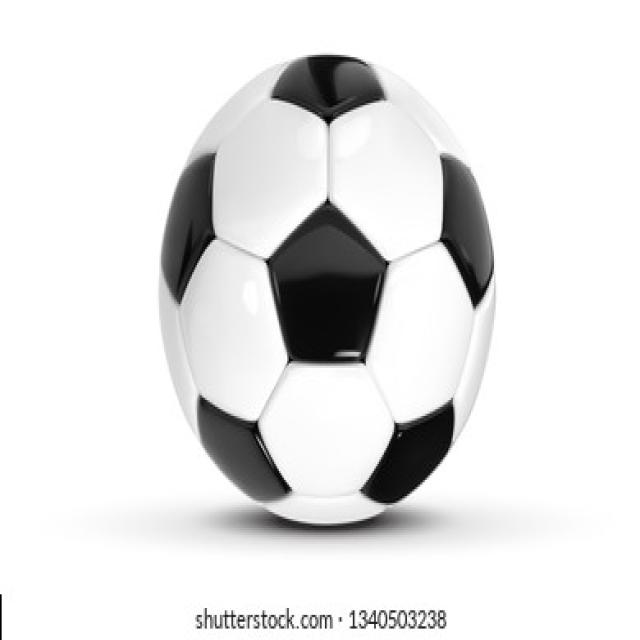soccer ball: (159, 50, 496, 533)
